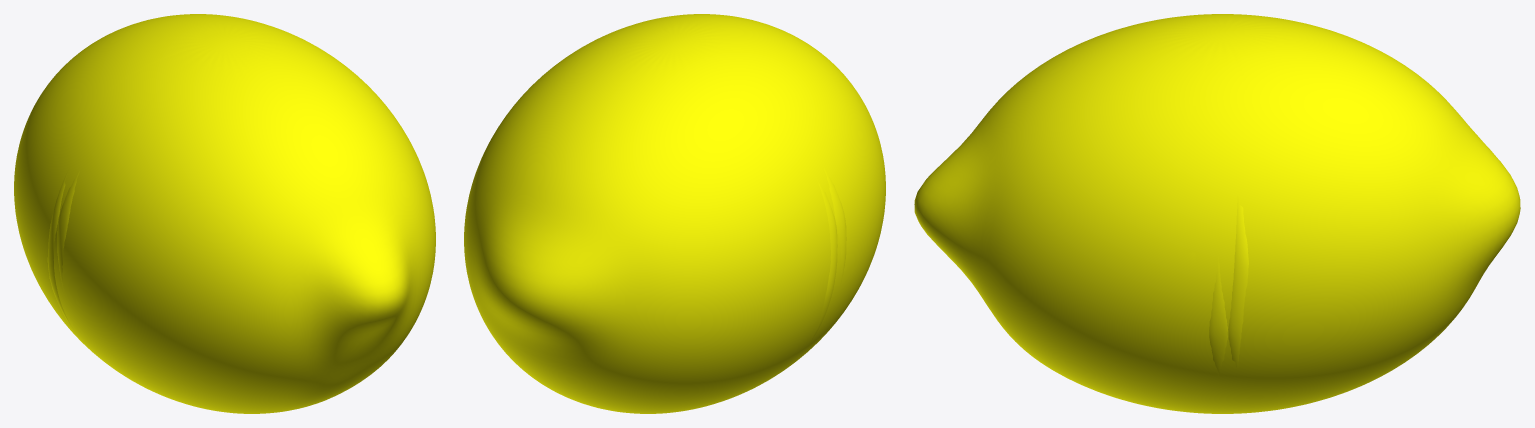
File: Lemon_v1.fbx
3 renders of one model, left to right at view 1: azimuth 30°, elevation 25°; view 2: azimuth 150°, elevation 25°; view 3: azimuth 270°, elevation 25°, orthographic. The views are drawn at different scales.
Visible parts, largest first — view 1: Front, Lemon_Base, Back, Slice_1, Slice_2; view 2: Back, Lemon_Base, Front, Slice_1, Slice_2; view 3: Front, Back, Lemon_Base, Slice_1, Slice_2.
Part boxes in pixels (x1,y1,x2,y2): Front: (74,41,435,413); Lemon_Base: (36,25,373,381); Back: (14,14,304,330); Slice_1: (47,169,73,329); Slice_2: (57,170,79,291); Back: (464,41,813,413); Lemon_Base: (530,26,863,381); Front: (595,14,885,330); Slice_1: (811,180,837,340); Slice_2: (823,166,846,286); Front: (914,14,1211,413); Back: (1233,14,1520,413); Lemon_Base: (1157,14,1275,413); Slice_1: (1228,196,1248,370); Slice_2: (1209,256,1227,375).
Bounding box in the file's own units: 406 × 399 × 604.
Materials: 2 (1 with a texture image).
